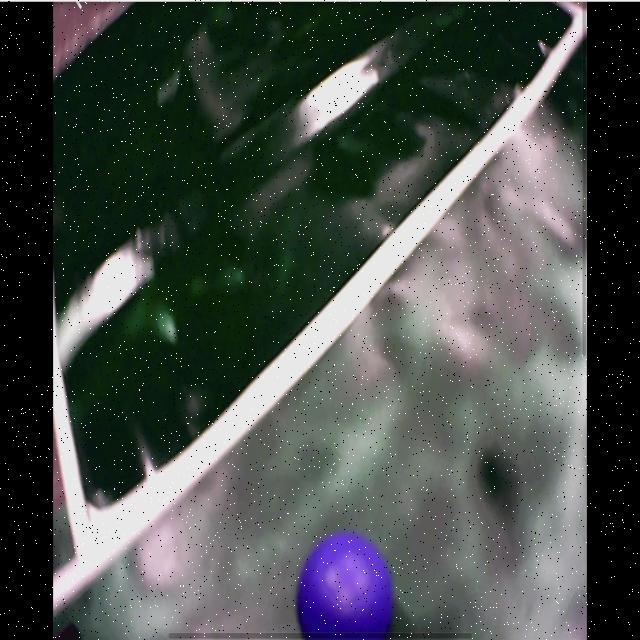ball: (297, 536, 394, 640)
